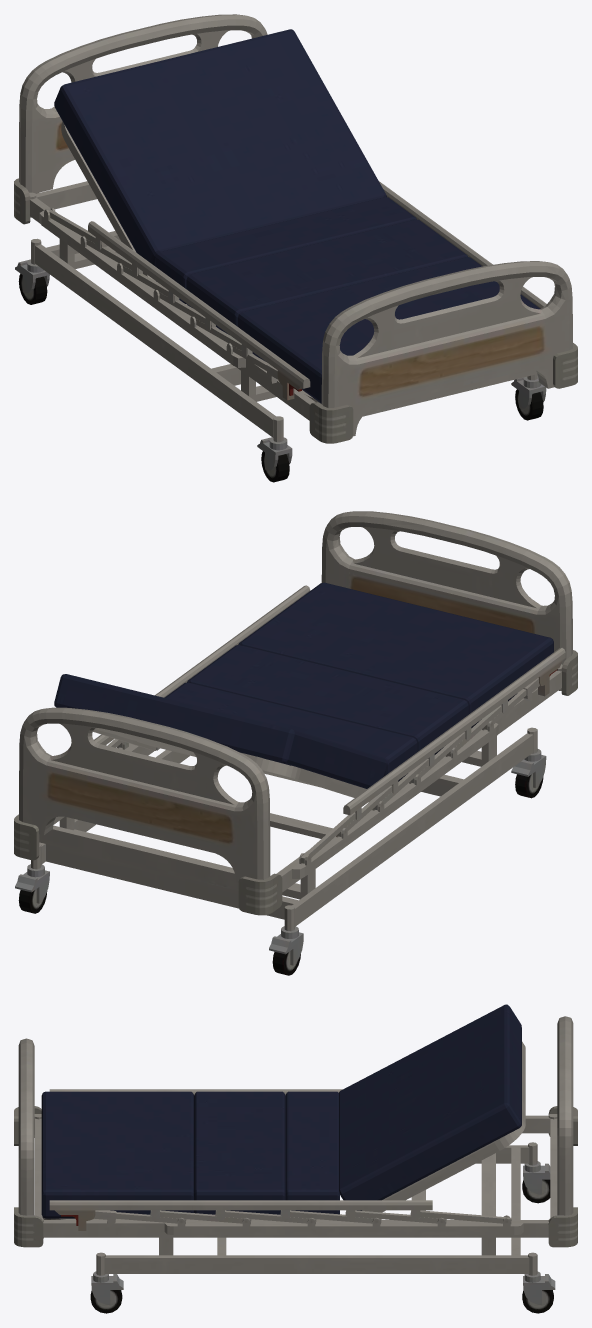
The model's file is bed-adjustable.glb.
3 renders of one model, top to bottom at view 1: azimuth 30°, elevation 25°; view 2: azimuth 150°, elevation 25°; view 3: azimuth 270°, elevation 25°, orthographic. The views are drawn at different scales.
Visible parts, largest first — view 1: geometry_1, geometry_0; view 2: geometry_0, geometry_1; view 3: geometry_1, geometry_0.
Part boxes in pixels (x1=…): geometry_1: x1=54, y1=29, x2=540, y2=403; geometry_0: x1=14, y1=14, x2=577, y2=482; geometry_0: x1=14, y1=511, x2=577, y2=975; geometry_1: x1=54, y1=582, x2=553, y2=788; geometry_1: x1=41, y1=1004, x2=521, y2=1218; geometry_0: x1=14, y1=1016, x2=577, y2=1313.
Bounding box in the file's own units: 1.09 × 0.8908 × 2.21.
Materials: 2 (2 with a texture image).
